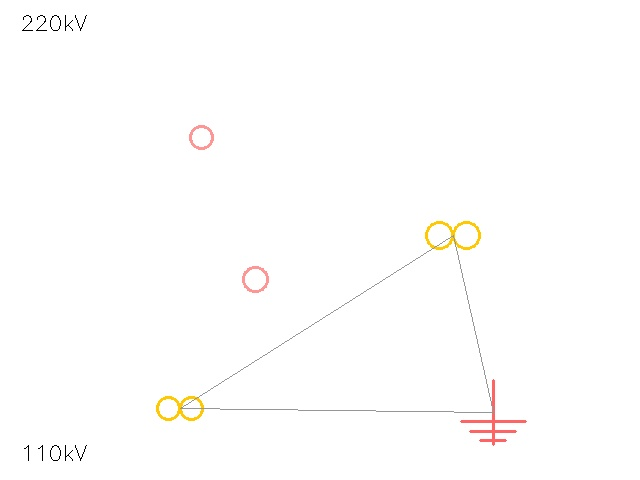ground: (461, 380, 525, 444)
load_break_switch: (230, 254, 280, 304), (178, 114, 224, 160)
transformer_2w: (420, 202, 486, 268), (151, 379, 209, 437)
